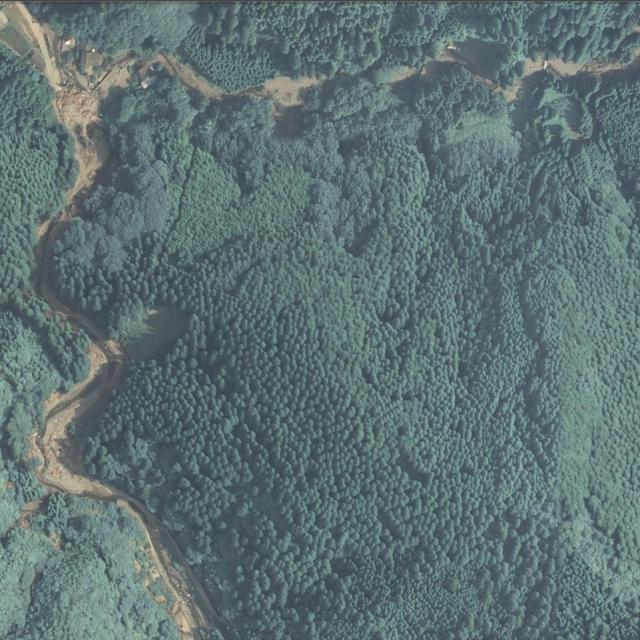landslide: (0, 1, 325, 201), (496, 57, 627, 100)
